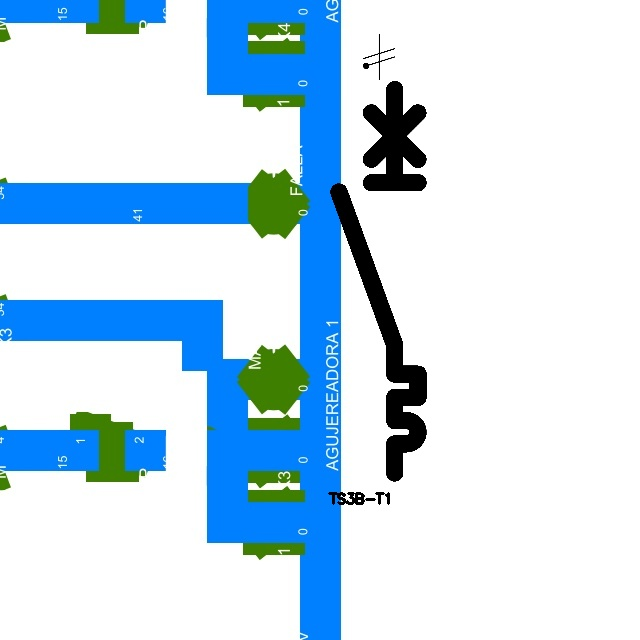interruptor_termomagnetico: (329, 79, 428, 482)
